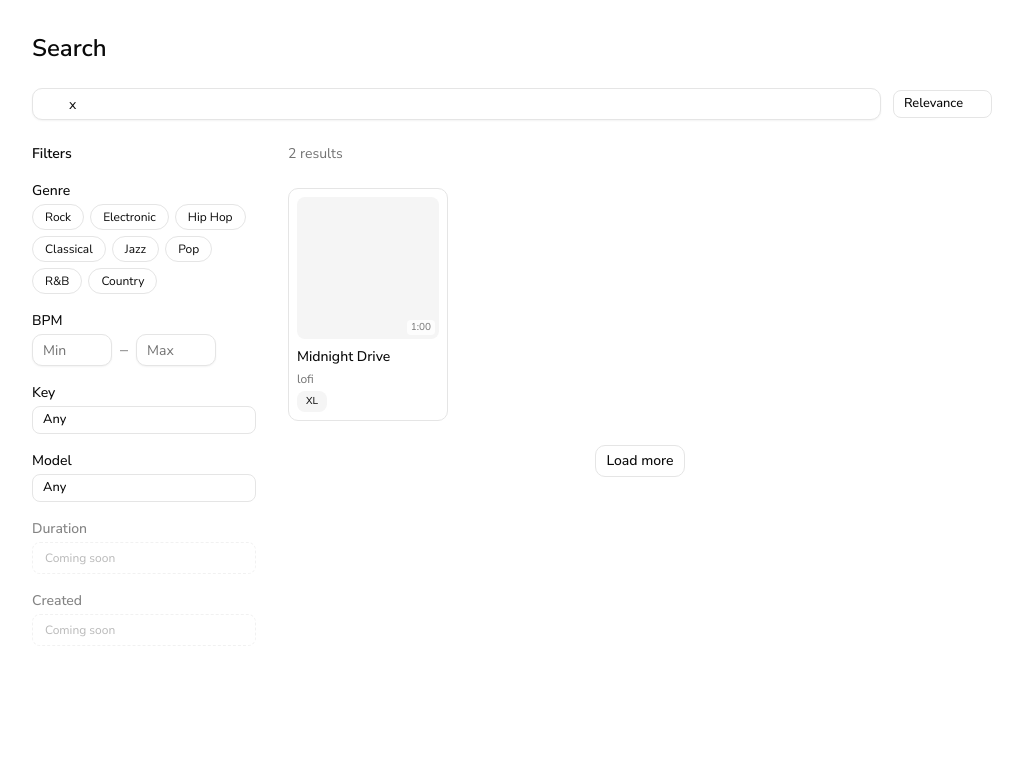
Test: SearchView › keeps the results and reports it when Load more fails
The image size is (1024, 768).
Click the button "Load more" at (640, 461), box top-left (595, 445), bottom-right (685, 477)
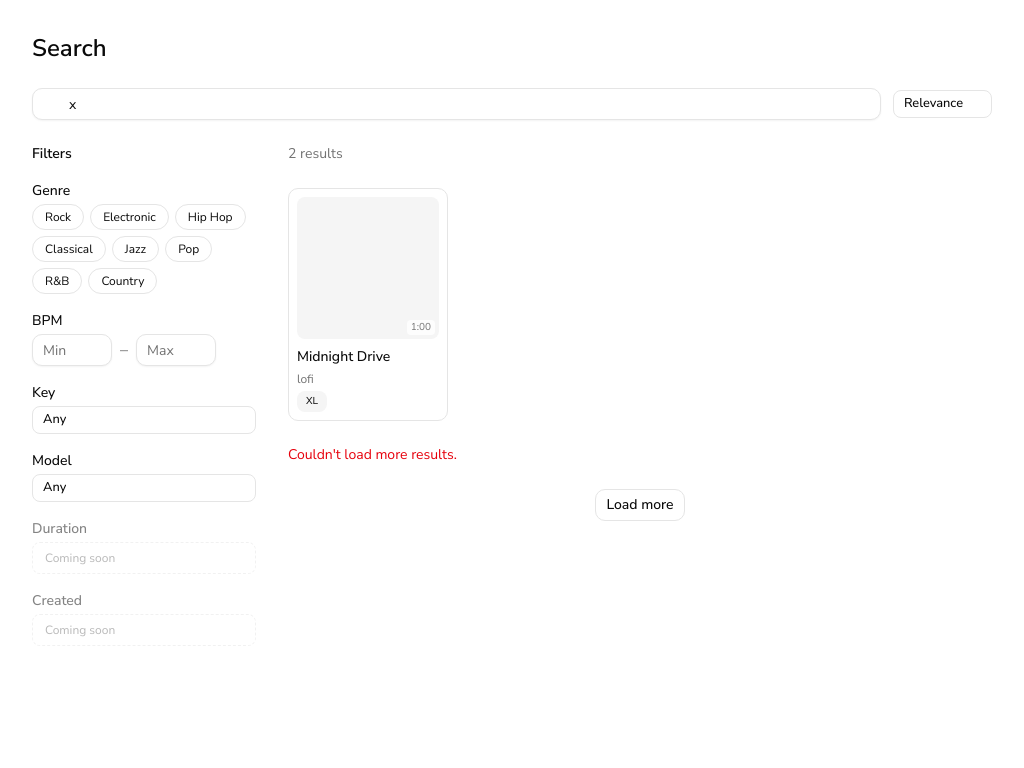
Expected: the button "Load more" is enabled, top-left (595, 489), bottom-right (685, 521)
Result: the message reads "Couldn't load more results." at top-left (288, 445), bottom-right (457, 464)
